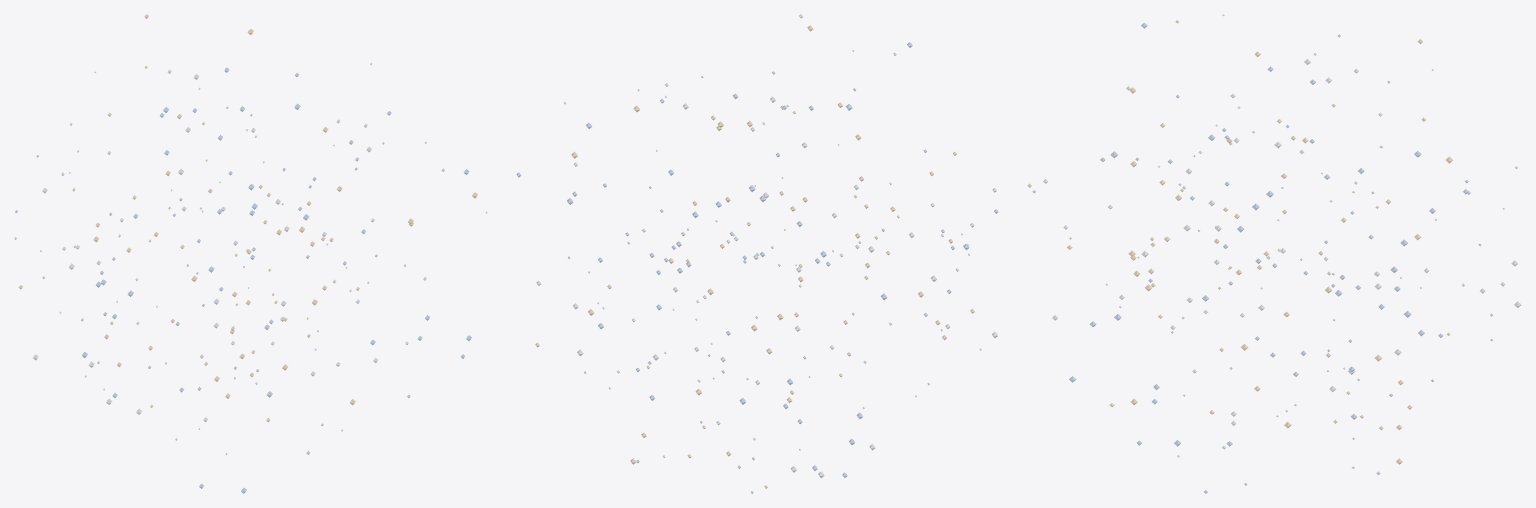
3 views of the same model, side by side, from view 1: azimuth 30°, elevation 25°; view 2: azimuth 150°, elevation 25°; view 3: azimuth 270°, elevation 25° (orthographic). The views are drawn at different scales.
Bounding box in the file's own units: 4.91 × 4.64 × 4.83.
